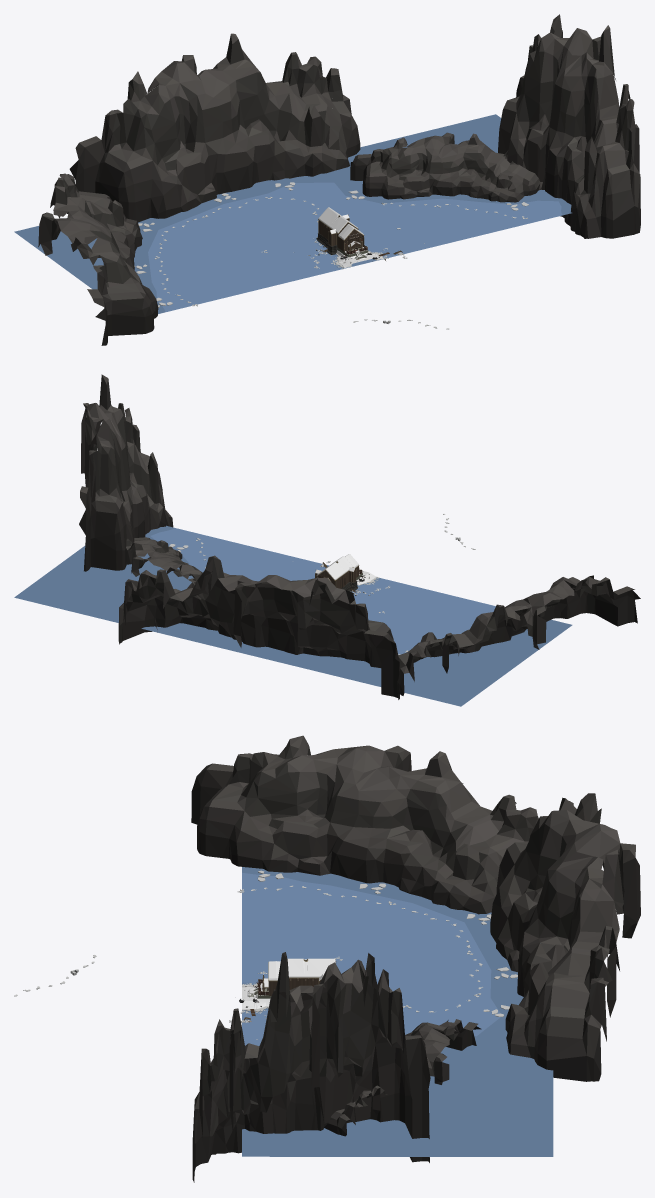
The model's file is narrowHallsAlt.glb.
The picture shows the model from 3 angles, top to bottom: view 1: azimuth 30°, elevation 25°; view 2: azimuth 150°, elevation 25°; view 3: azimuth 270°, elevation 25°; orthographic projection. The views are drawn at different scales.
Parts seen in each view (by area): view 1: mountains_.001, water.001, mountains_.002, mountains_, mountains_.003; view 2: water.001, mountains_.001, mountains_.002, mountains_, mountains_.003; view 3: water.001, mountains_, mountains_.002, mountains_.001, mountains_.003, snowRoof.005.
Boxes of the visible parts, box(x1,y1,x2,y2) form: mountains_.001: box(69, 33, 360, 222); water.001: box(14, 114, 571, 313); mountains_.002: box(498, 14, 640, 238); mountains_: box(38, 173, 158, 345); mountains_.003: box(350, 132, 540, 202); water.001: box(14, 525, 572, 706); mountains_.001: box(118, 555, 399, 699); mountains_.002: box(79, 374, 173, 571); mountains_: box(397, 575, 640, 695); mountains_.003: box(126, 537, 202, 583); water.001: box(242, 867, 553, 1156); mountains_: box(191, 735, 538, 914); mountains_.002: box(192, 952, 430, 1182); mountains_.001: box(490, 793, 640, 1081); mountains_.003: box(324, 1019, 481, 1136); snowRoof.005: box(287, 958, 335, 977).
Size of what is drawn, in the model's own units: 601 by 188 by 454.
